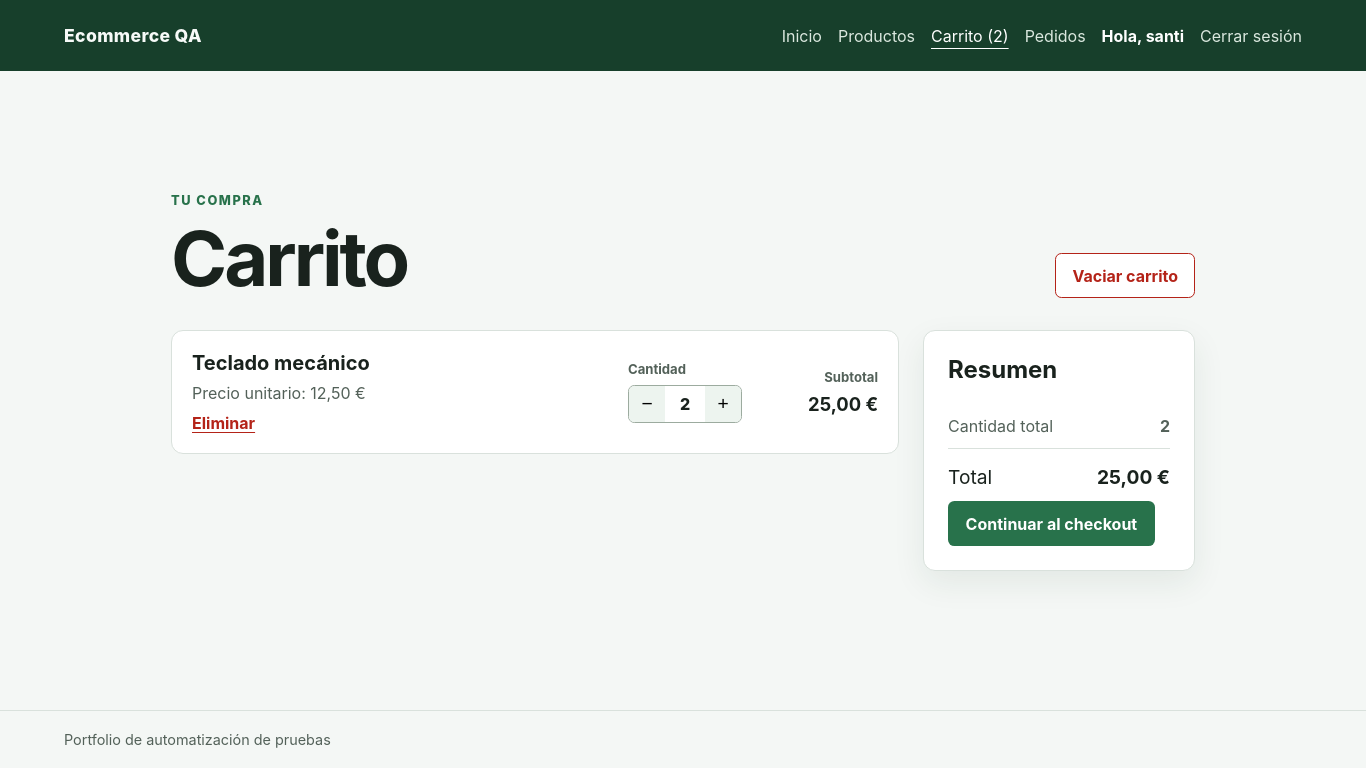
it: carrito › modifica la cantidad de un artículo
The image size is (1366, 768).
Click the button named "Aumentar cantidad de Teclado mecánico": (723, 404) [705,386,741,422]
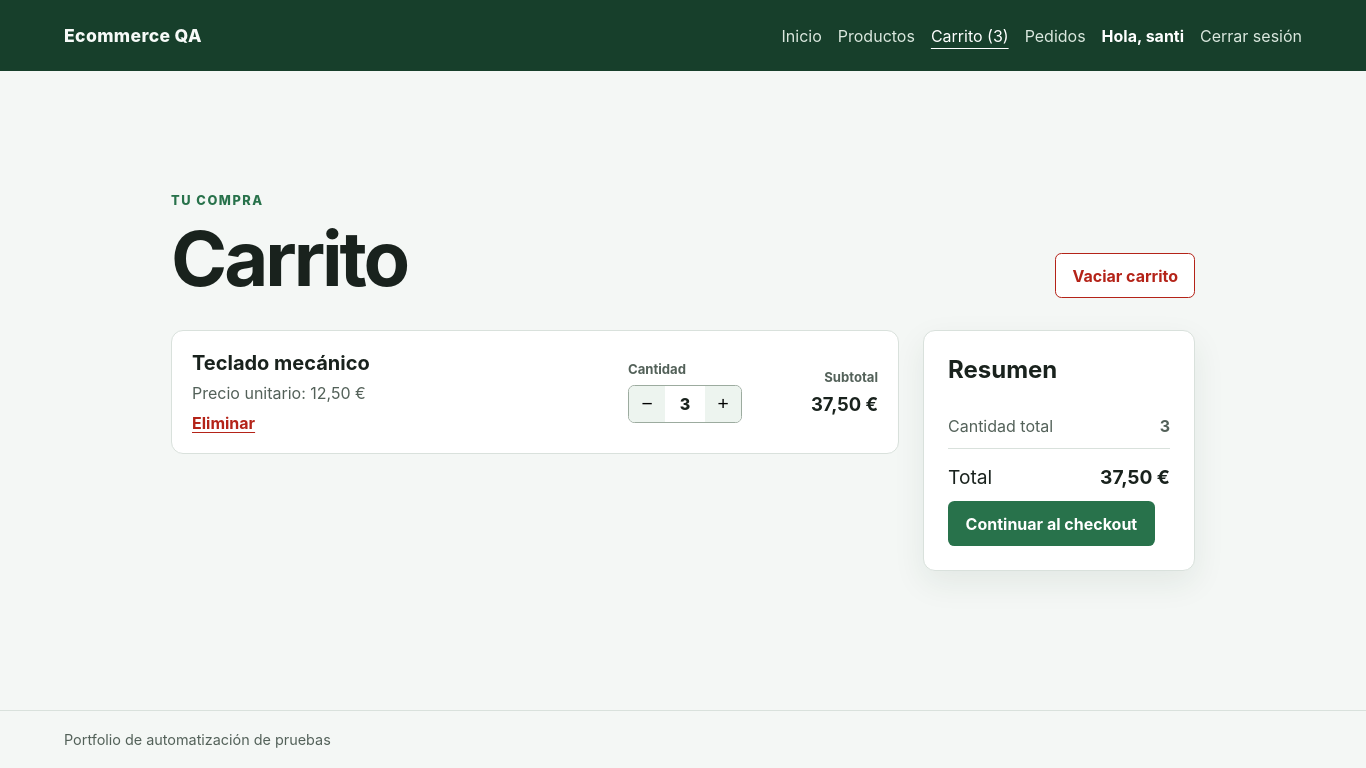
Expected: the text named "Cantidad de Teclado mecánico" reads "3", [680,394,690,414]
